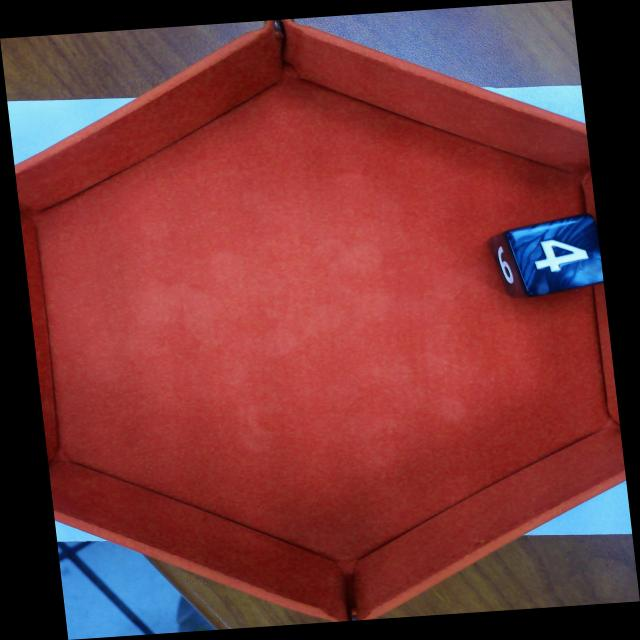dice: (503, 210, 605, 300)
